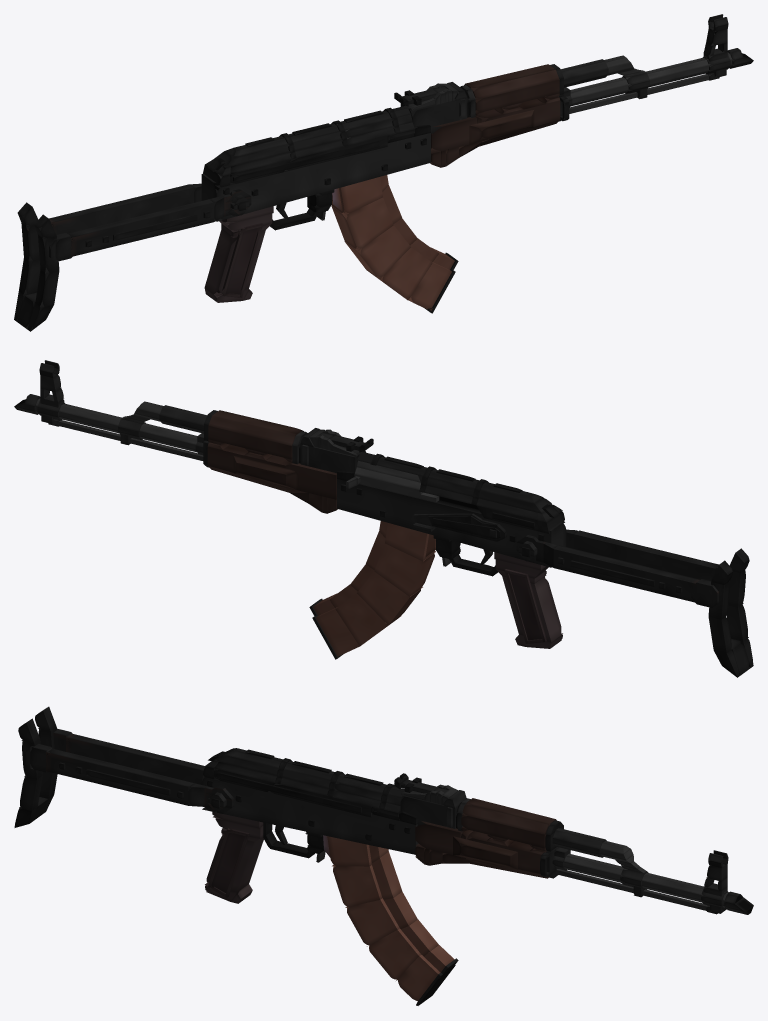
Rendered from akms.obj.
3 renders of one model, top to bottom at view 1: azimuth 30°, elevation 25°; view 2: azimuth 150°, elevation 25°; view 3: azimuth 330°, elevation 25°, orthographic.
Parts seen in each view (by area): view 1: gunModel0, gunModel164, gunModel165, ammoModel1, ammoModel2, gunModel14, gunModel53, ammoModel3, gunModel140, gunModel12, gunModel11, gunModel85 (+18 smaller); view 2: gunModel0, gunModel165, gunModel164, ammoModel1, ammoModel2, gunModel14, gunModel53, ammoModel3, gunModel140, gunModel13, gunModel11, gunModel85 (+17 smaller); view 3: gunModel0, gunModel164, gunModel165, gunModel14, ammoModel1, ammoModel2, ammoModel3, gunModel53, gunModel12, gunModel11, gunModel85, gunModel26 (+20 smaller).
Boxes of the visible parts, x1,y1,x2,y2 form: gunModel0: (201,133,430,221); gunModel164: (68,199,214,256); gunModel165: (49,184,193,234); ammoModel1: (331,197,393,250); ammoModel2: (344,225,410,279); gunModel14: (464,64,559,99); gunModel53: (224,106,410,157); ammoModel3: (371,247,432,300); gunModel140: (204,229,265,296); gunModel12: (469,110,534,144); gunModel11: (471,79,559,113); gunModel85: (558,52,732,98); gunModel0: (337,479,566,567); gunModel165: (553,545,699,602); gunModel164: (574,530,718,580); ammoModel1: (374,543,434,596); ammoModel2: (357,571,420,625); gunModel14: (208,410,303,445); gunModel53: (357,452,543,503); ammoModel3: (335,593,396,646); gunModel140: (502,576,562,642); gunModel13: (233,456,298,490); gunModel11: (208,425,292,459); gunModel85: (35,398,197,444); gunModel0: (201,776,418,854); gunModel164: (46,748,193,805); gunModel165: (66,734,205,784); gunModel14: (462,798,556,834); ammoModel1: (333,865,382,907); ammoModel2: (347,898,399,946); ammoModel3: (369,928,420,980); gunModel53: (224,748,404,797); gunModel12: (453,836,517,869); gunModel11: (461,815,546,848); gunModel85: (553,853,728,900); gunModel26: (400,791,457,828).
Size of the model in its own units: 28 by 8.07 by 2.03.
